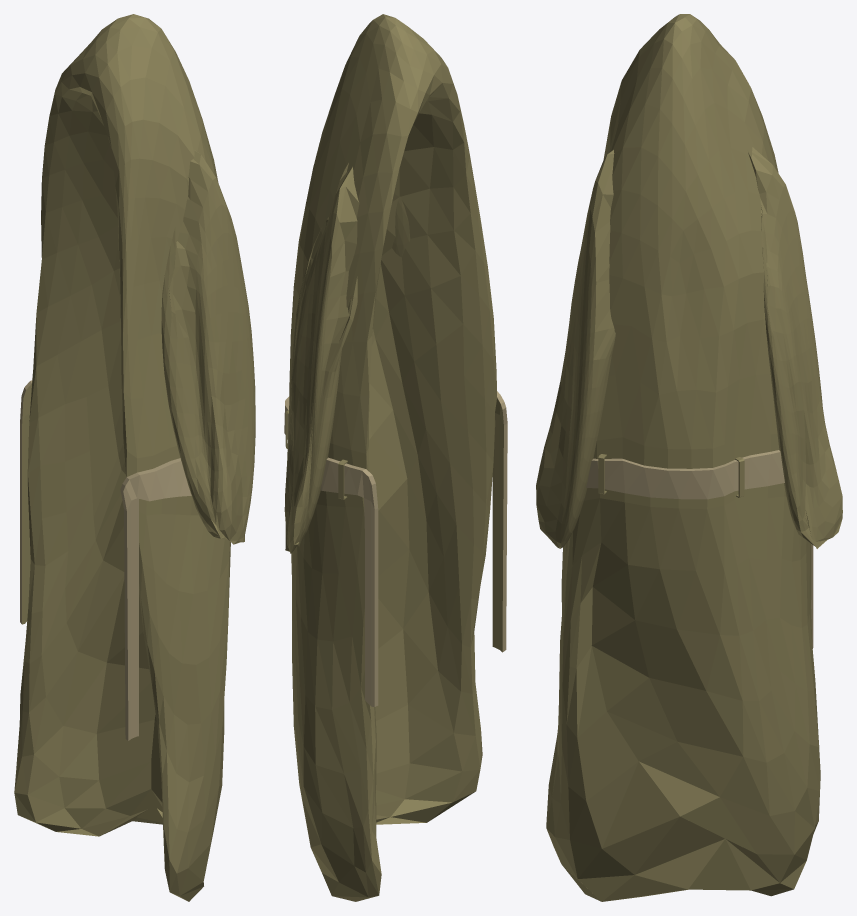
The model's file is Coat.fbx.
3 views of the same model, side by side, from view 1: azimuth 30°, elevation 25°; view 2: azimuth 150°, elevation 25°; view 3: azimuth 270°, elevation 25° (orthographic). The views are drawn at different scales.
Visible parts, largest first — view 1: Icosphere, Icosphere.001; view 2: Icosphere, Icosphere.002, Icosphere.001; view 3: Icosphere, Icosphere.002, Icosphere.001.
Part boxes in pixels (left/top/right/bottom): Icosphere: left=14, top=14, right=230, bottom=901; Icosphere.001: left=161, top=149, right=255, bottom=544; Icosphere: left=284, top=14, right=507, bottom=901; Icosphere.002: left=284, top=163, right=359, bottom=553; Icosphere.001: left=392, top=196, right=410, bottom=257; Icosphere: left=546, top=14, right=820, bottom=901; Icosphere.002: left=747, top=147, right=842, bottom=548; Icosphere.001: left=536, top=150, right=615, bottom=548.
Size of the model in its own units: 0.5625 by 0.9334 by 2.94.
